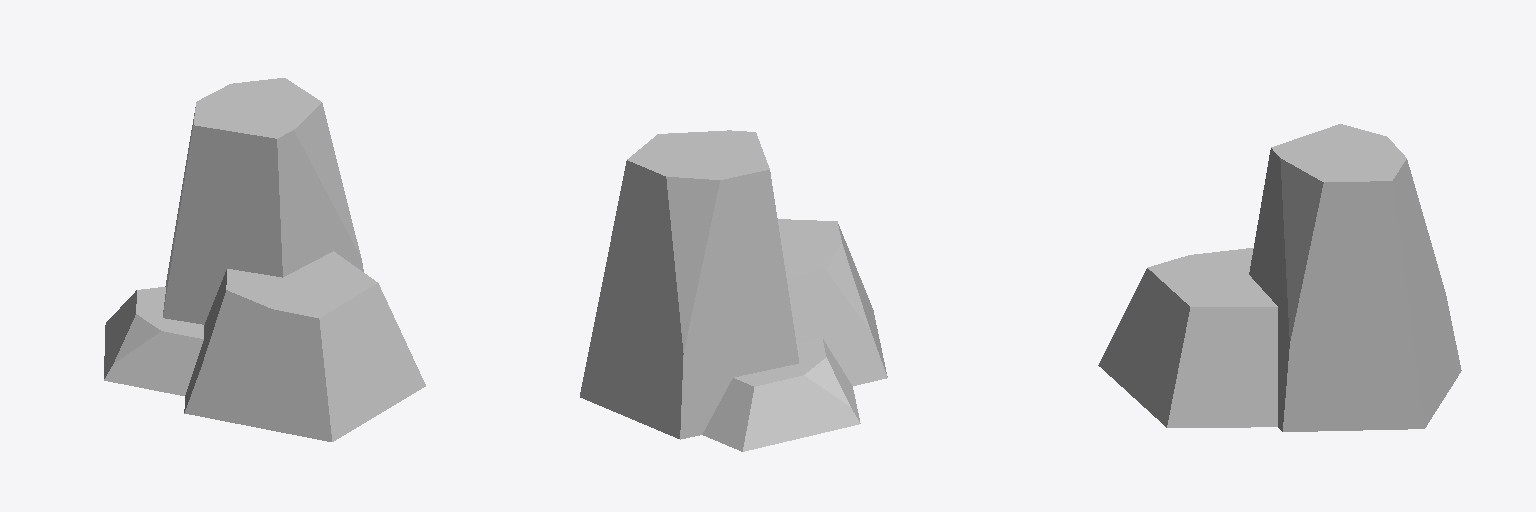
The model's file is rockA.obj.
3 renders of one model, left to right at view 1: azimuth 30°, elevation 25°; view 2: azimuth 150°, elevation 25°; view 3: azimuth 270°, elevation 25°, orthographic.
Parts seen in each view (by area): view 1: rockA; view 2: rockA; view 3: rockA.
Part boxes in pixels (x1,y1,x2,y2): rockA: (104, 78, 425, 441); rockA: (580, 130, 887, 451); rockA: (1098, 124, 1461, 431).
Size of the model in its own units: 1.73 by 1.57 by 2.22.